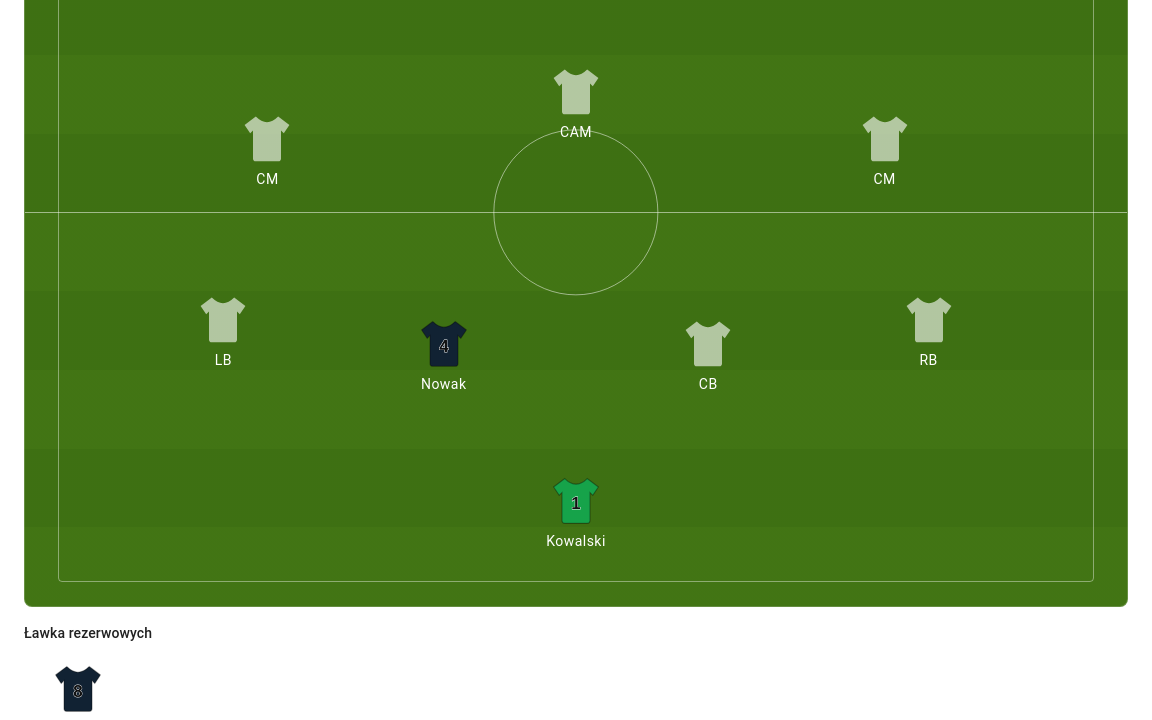
choosing a player for the lineup › opens a picker for the position, on the matching position group
(page scrolled)
Check: the text "Kowalski" is shown, box 546,533 -> 606,549
Click the text "LB": [223, 360] box 215,352 -> 232,368
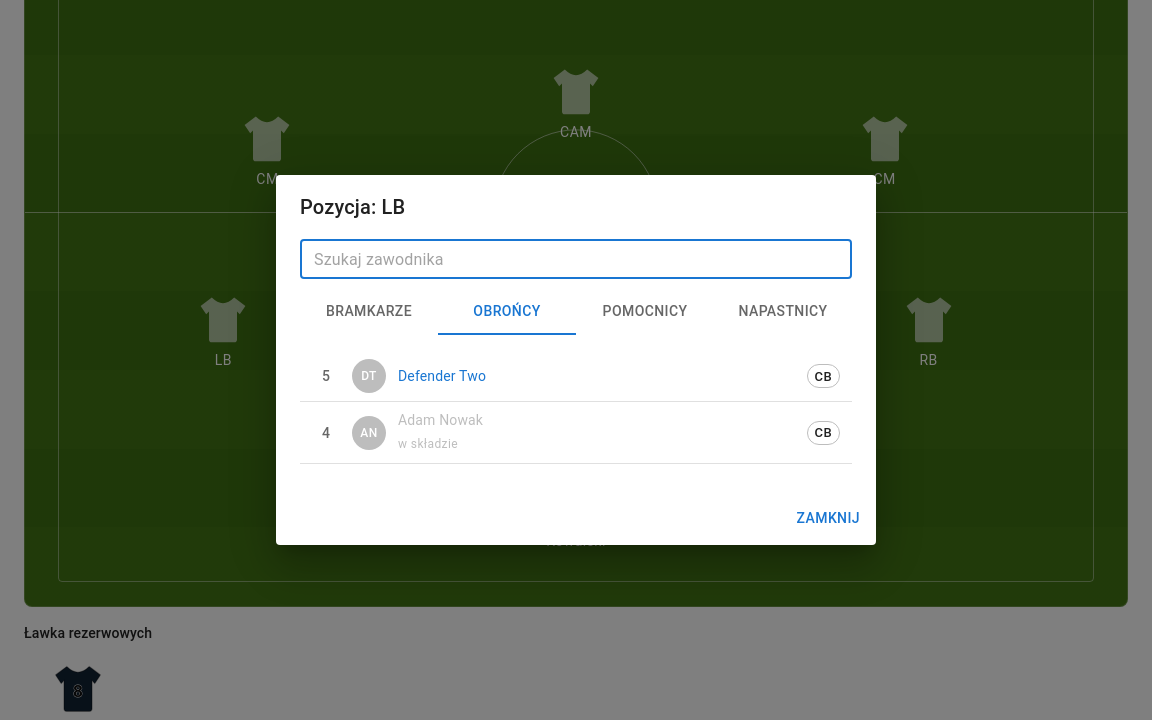
Check: the heading "Pozycja: LB" is shown, box 300,196 -> 405,220
